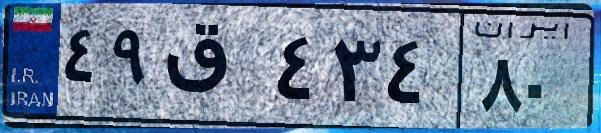0: (525, 38, 570, 115)
3: (330, 28, 385, 110)
4: (270, 28, 330, 110), (385, 28, 445, 110), (57, 26, 110, 100)
8: (475, 38, 525, 113)
9: (110, 28, 158, 98)
ق: (158, 20, 270, 120)
